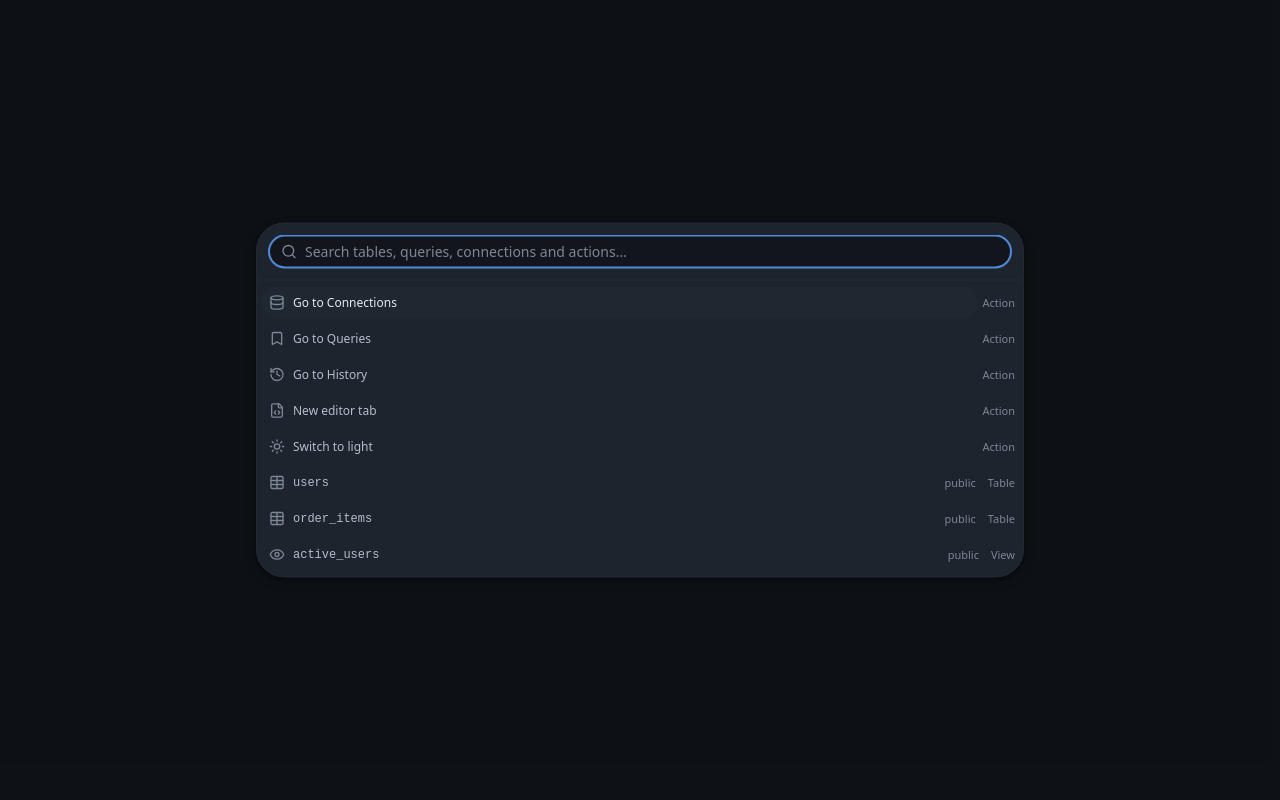
Scenario: CommandPalette › reports a query that matches nothing
Type "zzzzz" into the field labelled "Search tables, queries, connections and actions…" at x=656, y=252, box [305,242,1007,262]
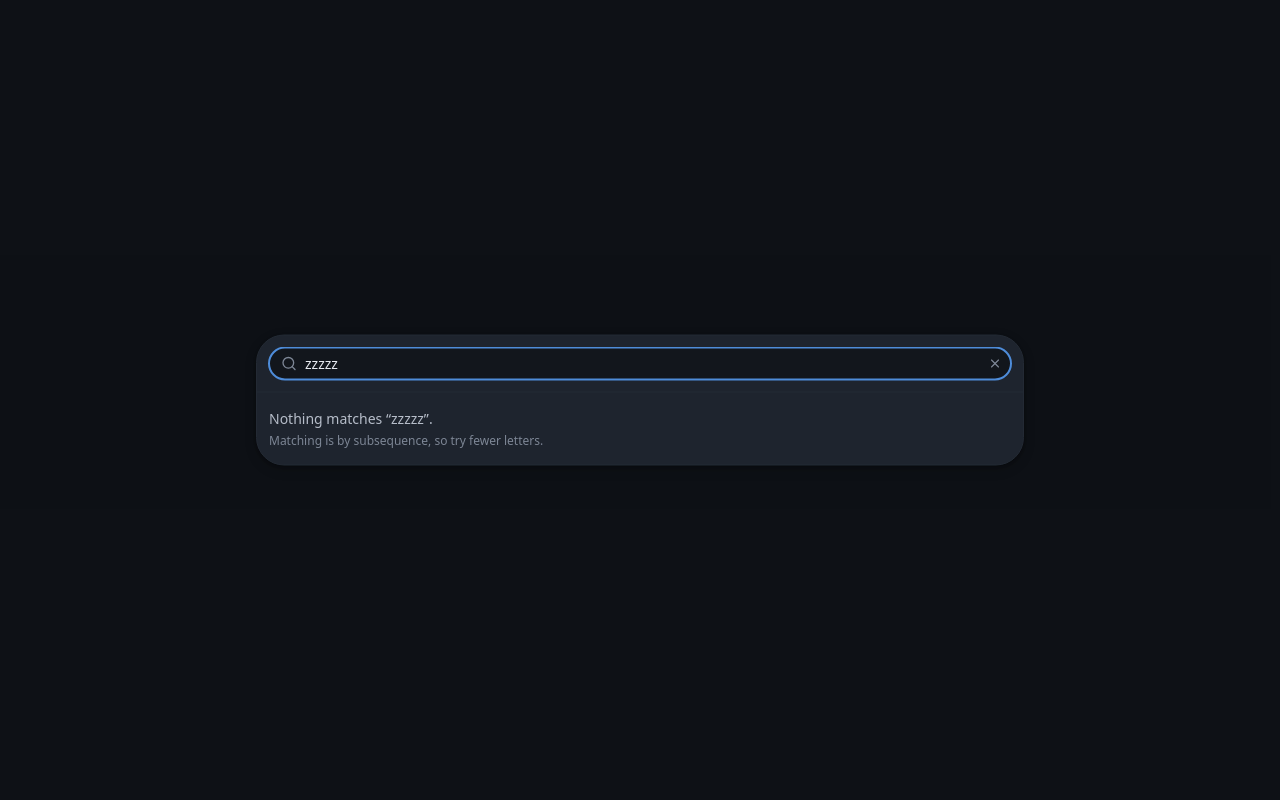
Expected: the text "Nothing matches “zzzzz”." is shown, [269,408,433,428]
